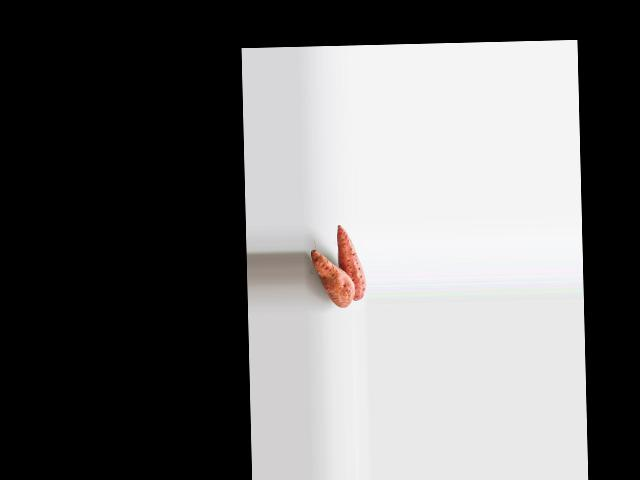sweet_potato: (336, 229, 365, 300)
